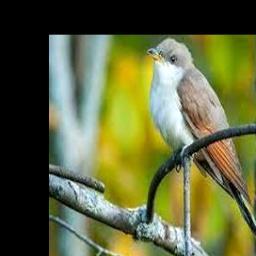Cuckoo: (148, 37, 256, 256)
